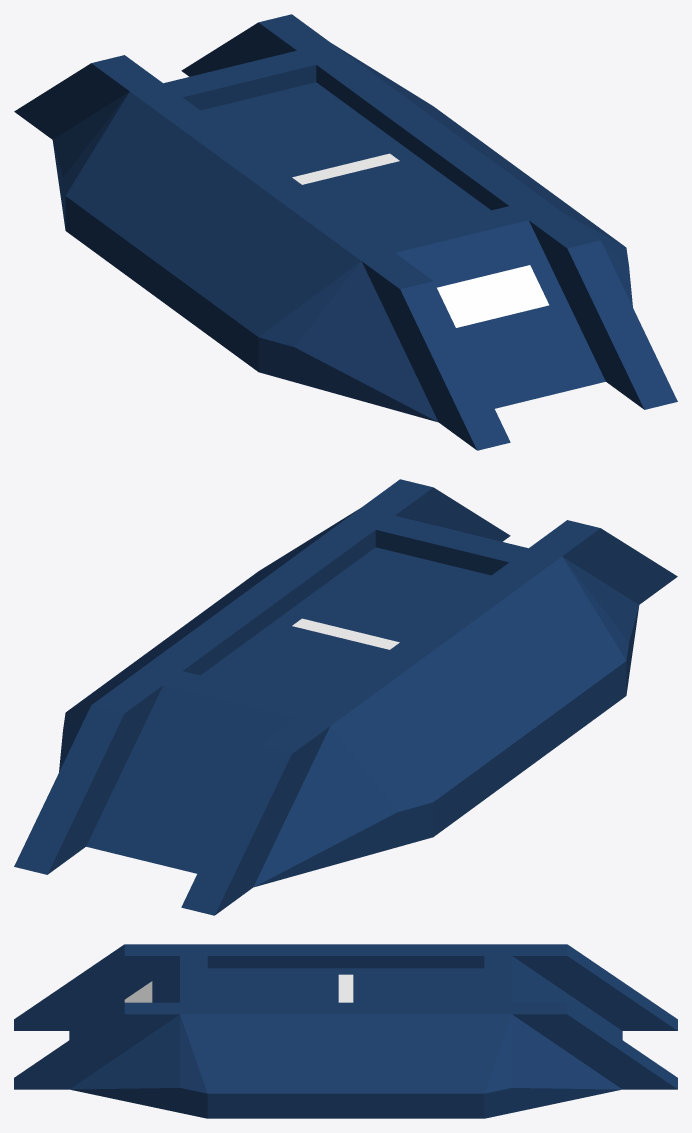
The model's file is Armor-Shoulder.obj.
3 renders of one model, top to bottom at view 1: azimuth 30°, elevation 25°; view 2: azimuth 150°, elevation 25°; view 3: azimuth 270°, elevation 25°, orthographic. The views are drawn at different scales.
Parts seen in each view (by area): view 1: Armor-Shoulder; view 2: Armor-Shoulder; view 3: Armor-Shoulder.
Boxes of the visible parts, <box> form: Armor-Shoulder: <box>14,14,677,450</box>; Armor-Shoulder: <box>14,479,677,915</box>; Armor-Shoulder: <box>14,944,677,1118</box>.
Bounding box in the file's own units: 2.75 × 0.7501 × 6.
